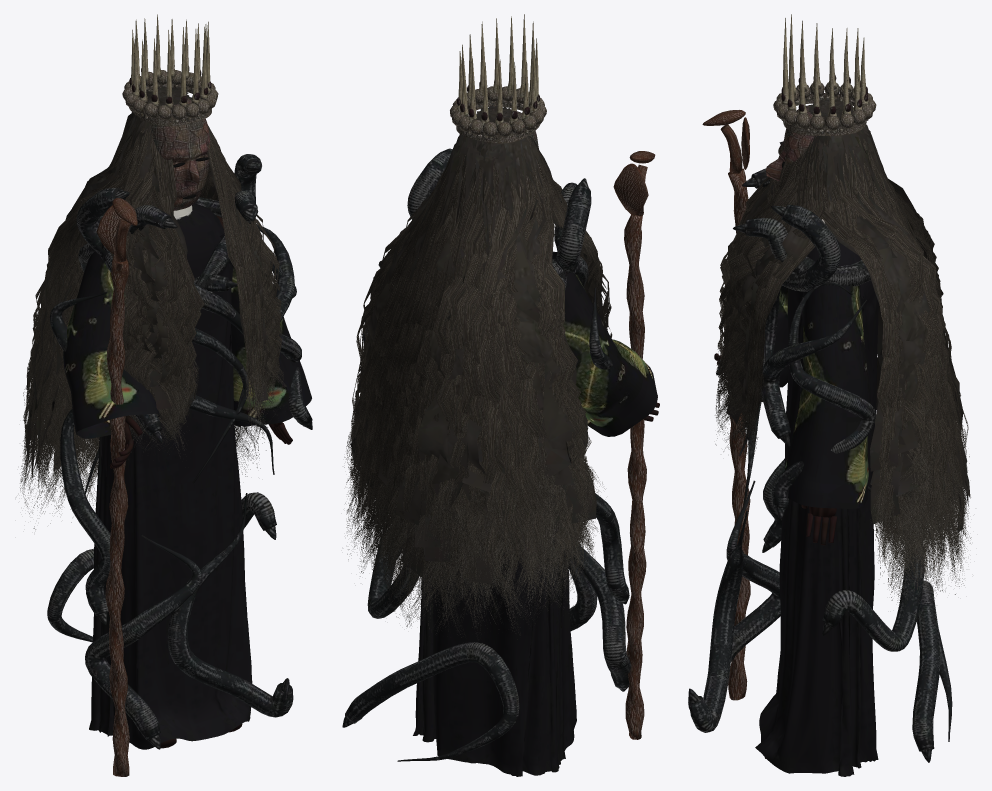
The model's file is zahhak.glb.
3 renders of one model, left to right at view 1: azimuth 30°, elevation 25°; view 2: azimuth 150°, elevation 25°; view 3: azimuth 270°, elevation 25°, orthographic.
Parts seen in each view (by area): view 1: Rig_Body, Rig_Head, Rig_ArmR, Rig_Face, Rig_ArmL; view 2: Rig_Head, Rig_Body, Rig_ArmR, Rig_Face; view 3: Rig_Body, Rig_Head, Rig_ArmL, Rig_Face, Rig_ArmR.
Boxes of the visible parts, x1,y1,x2,y2 form: Rig_Body: (47, 154, 312, 749); Rig_Head: (20, 86, 286, 529); Rig_ArmR: (63, 198, 162, 776); Rig_Face: (122, 14, 218, 210); Rig_ArmL: (216, 215, 311, 444); Rig_Head: (344, 105, 612, 649); Rig_Body: (342, 148, 631, 776); Rig_ArmR: (552, 151, 659, 739); Rig_Face: (450, 14, 546, 148); Rig_Body: (688, 141, 952, 776); Rig_Head: (715, 99, 971, 609); Rig_ArmL: (784, 285, 870, 545); Rig_Face: (766, 14, 876, 180); Rig_ArmR: (702, 110, 788, 700).
Bounding box in the file's own units: 0.831 × 2.14 × 0.7751.
7 materials, 7 textured.
